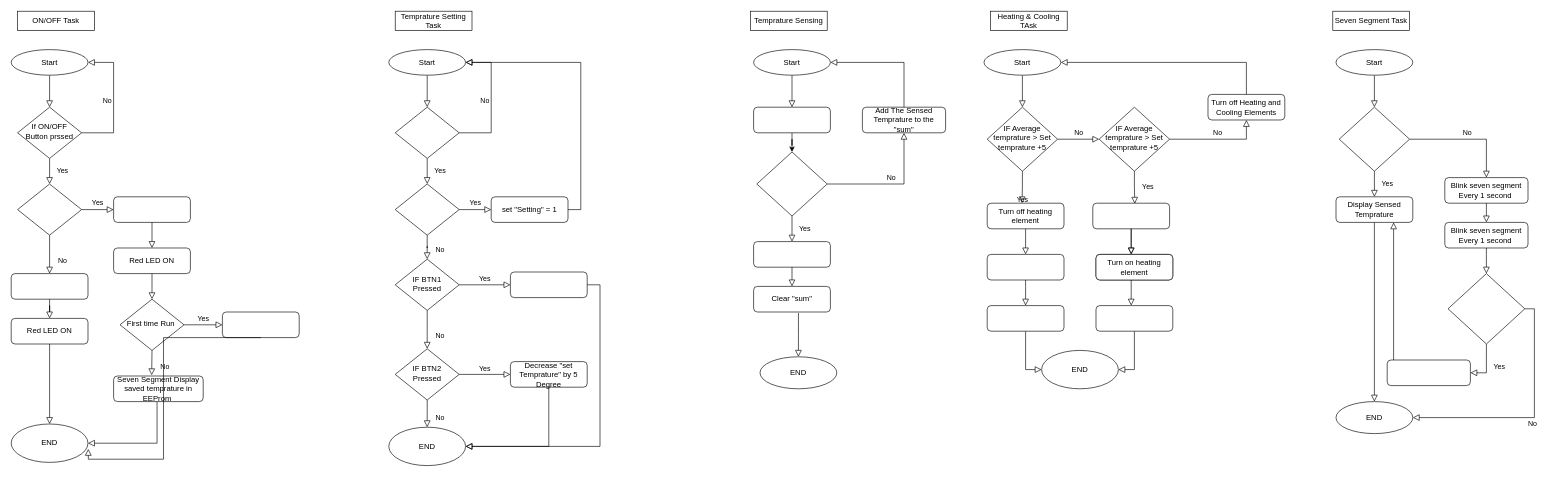
The diagram is 1552 pixels wide and 477 high, and some of its shapes have lost their labels. The shapes that lost their labels are listed below. From the top down, each one's centre as x and y in pixels, then its label:
(x=427, y=132): IF BTN1 or BTN2 Pressed
(x=791, y=120): Get Water Temprature using LM35
(x=1374, y=139): IF "Setting" == 0
(x=791, y=183): IF No. OF Sensed Temprature ==10
(x=49, y=209): If flag == 0
(x=151, y=209): Turn ON the System
(x=427, y=209): IF "Setting"== 0
(x=1131, y=216): Turn off Cooling Element
(x=791, y=254): Get the "average temprature"
(x=1025, y=267): Turn on Cooling Element
(x=49, y=286): Turn OFF The system
(x=548, y=284): Increase "setTemprature" by 5 Degrees
(x=260, y=324): Seven Segment Display 60 for temprature
(x=1025, y=318): Turn on Green LED
(x=1134, y=318): Blink Green LED
(x=1486, y=308): IF BTN1 or BTN2 Not Pressed for 5 seconds
(x=1428, y=372): Stop Blinking of Seven Segment
